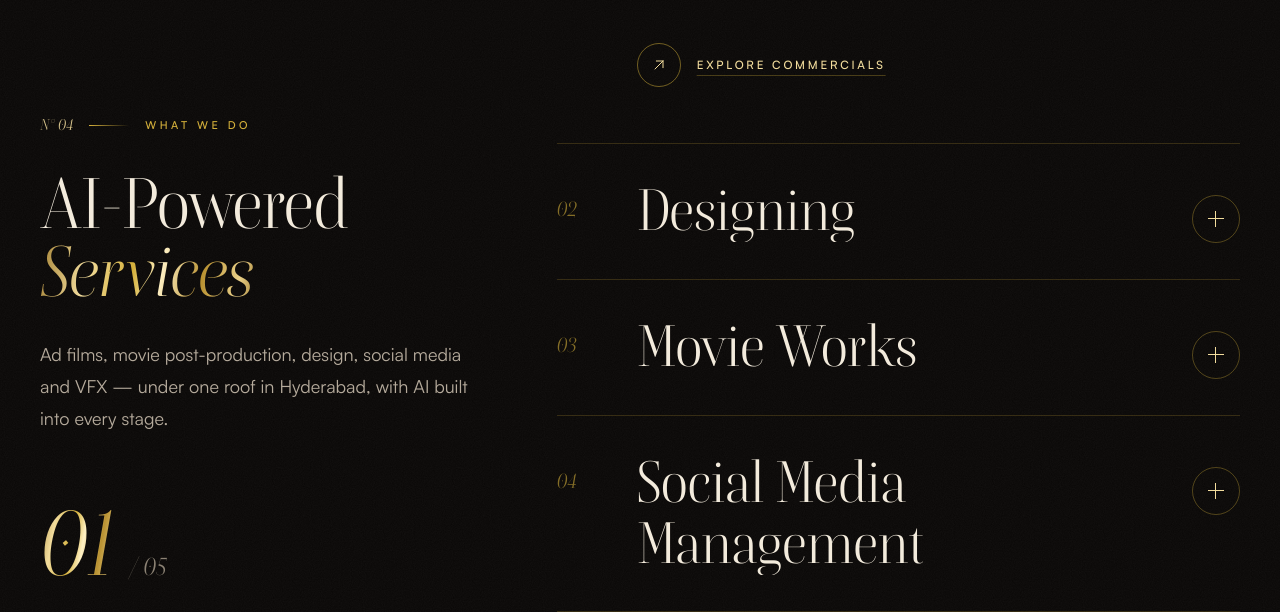
Test: redesign safeguards › opens one service at a time
(page scrolled)
Click the button "03 Movie Works": (898, 347) [557,279,1240,415]
(page scrolled)
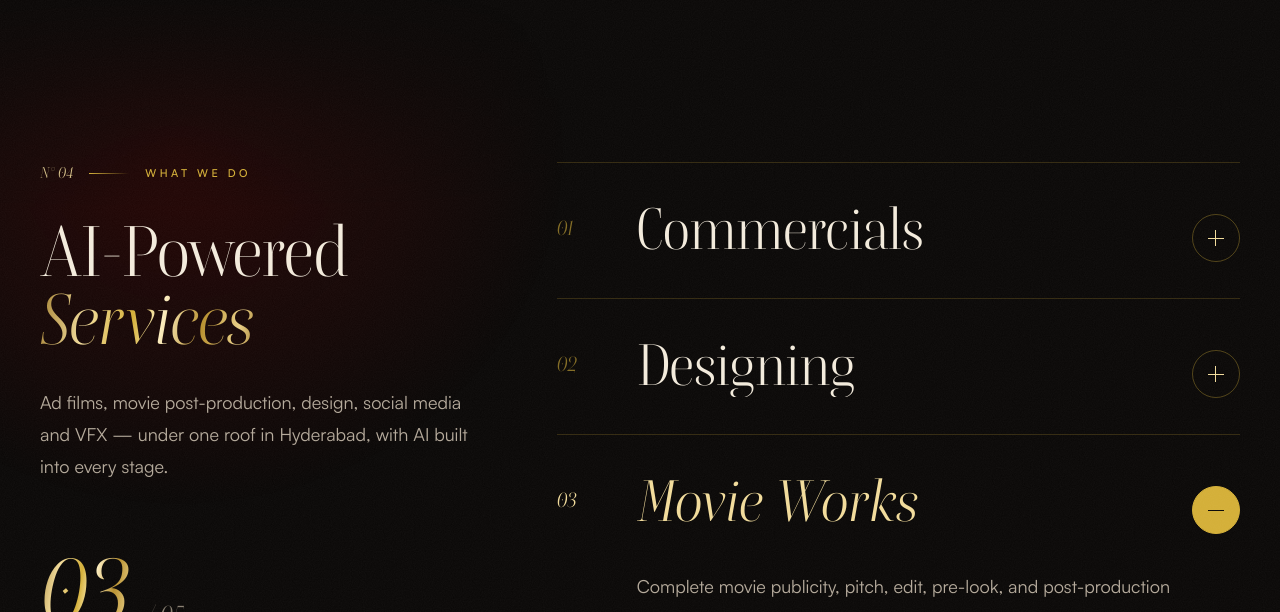
Expected: the button "03 Movie Works" is expanded, [557,434,1240,570]
Expected: the button "01 Commercials" is collapsed, [557,162,1240,298]
